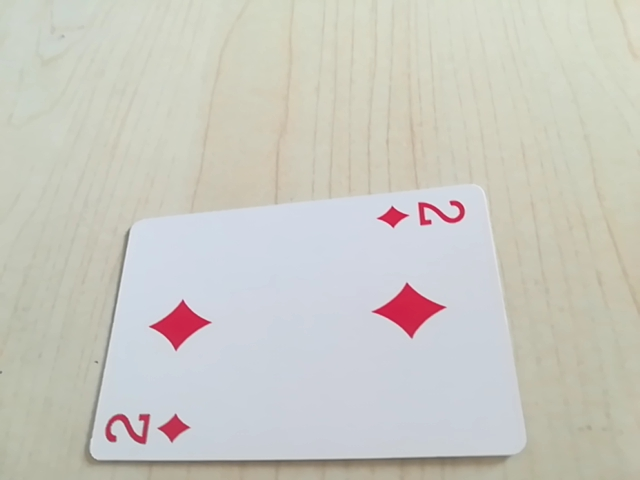fk 2: (97, 402, 197, 458), (377, 193, 475, 237)
